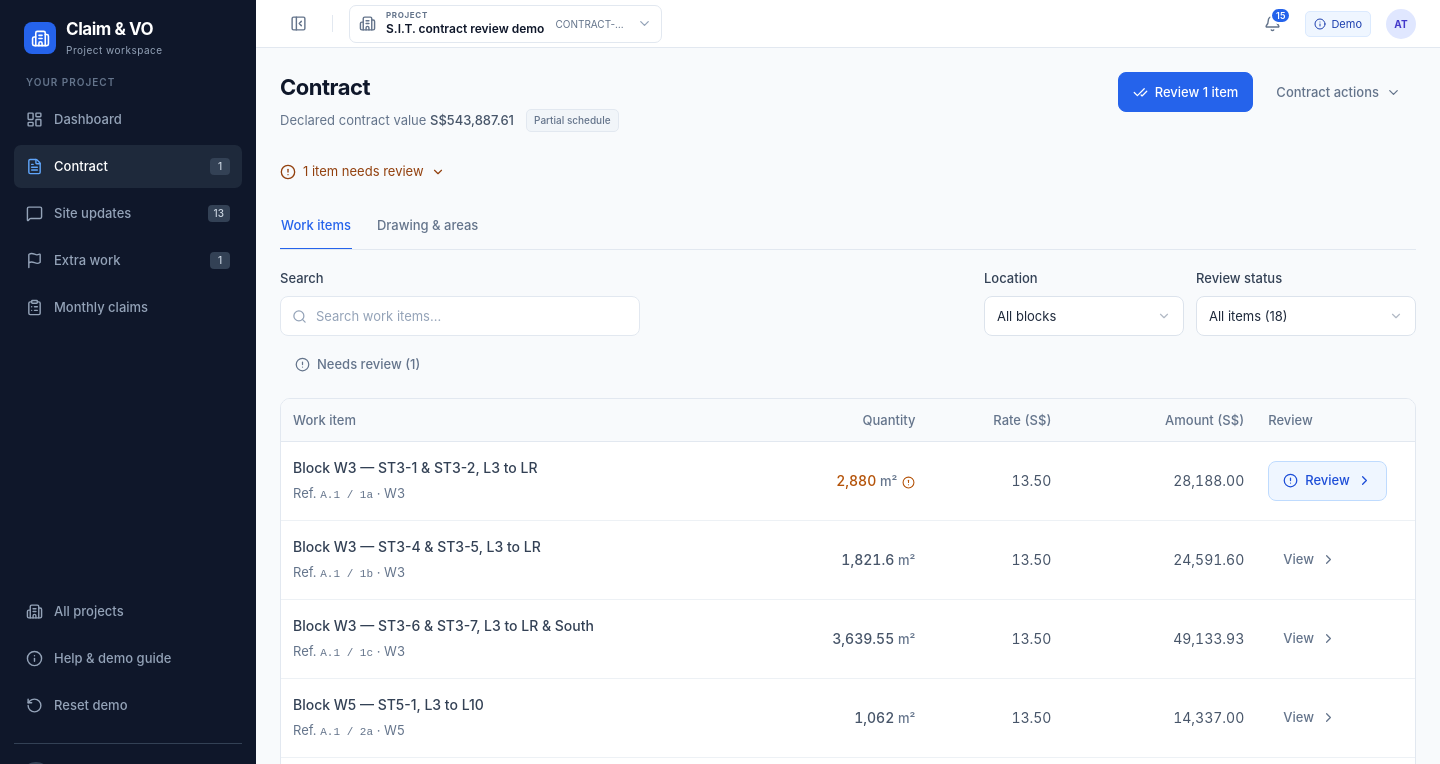
Test: contract work list and source review stay connected › keeps unresolved items discoverable and clears unrelated filters without resolving items or changing claims
Type "ST5" into the field named "Search work items" at {"x": 472, "y": 316}, box [316,297,628,335]
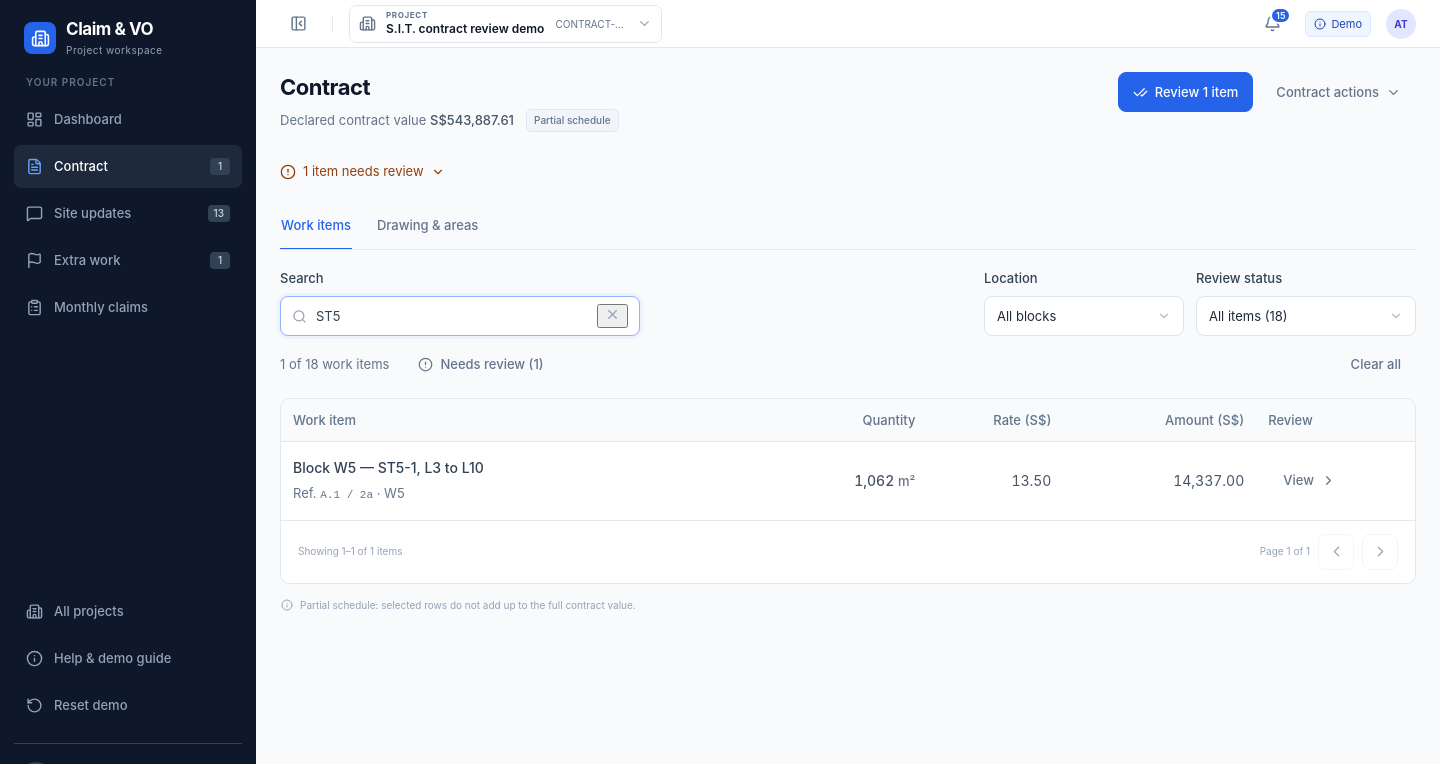
Click the dropdown named "Filter by block" at {"x": 1084, "y": 316}, box [984,296,1184,336]
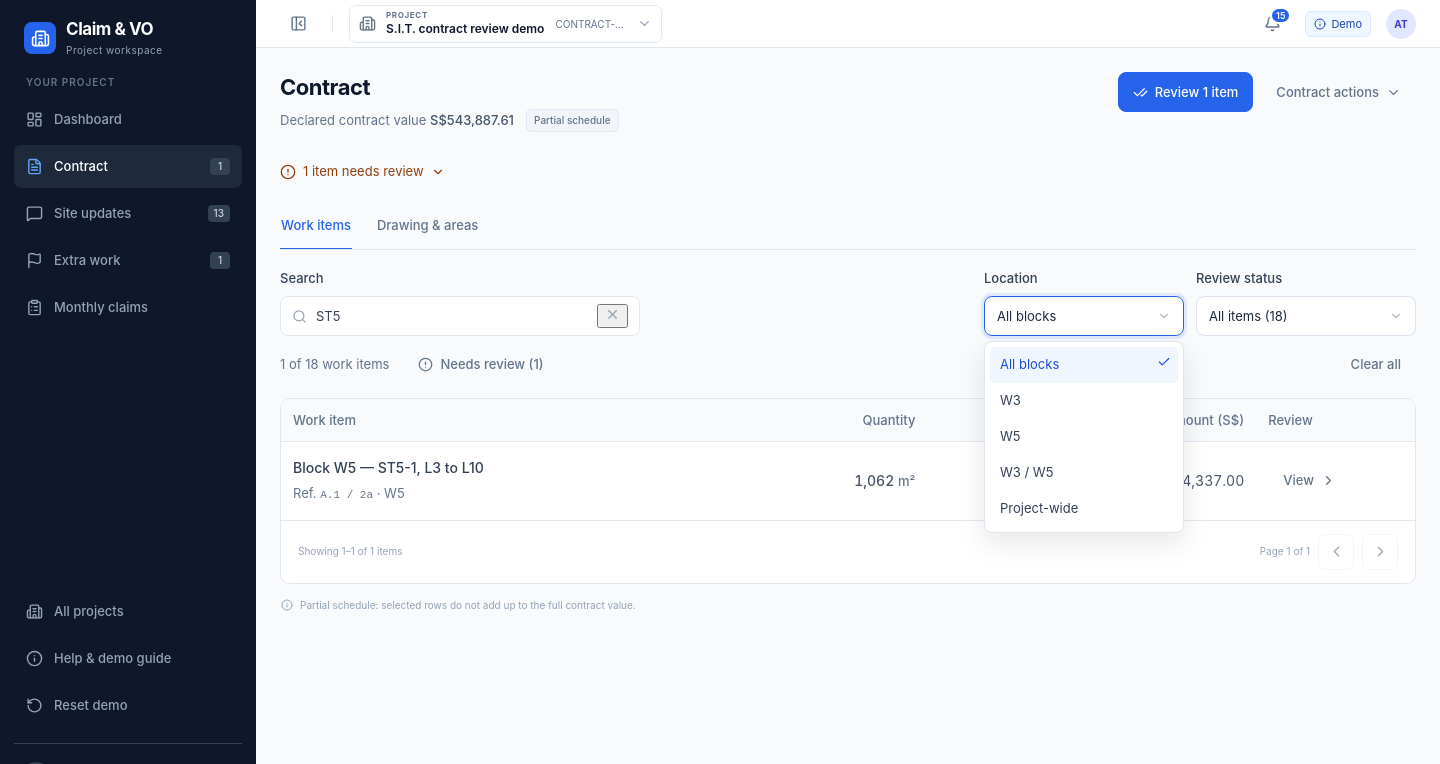
Click the option "W5" at {"x": 1010, "y": 436}, box [1000,428,1020,444]
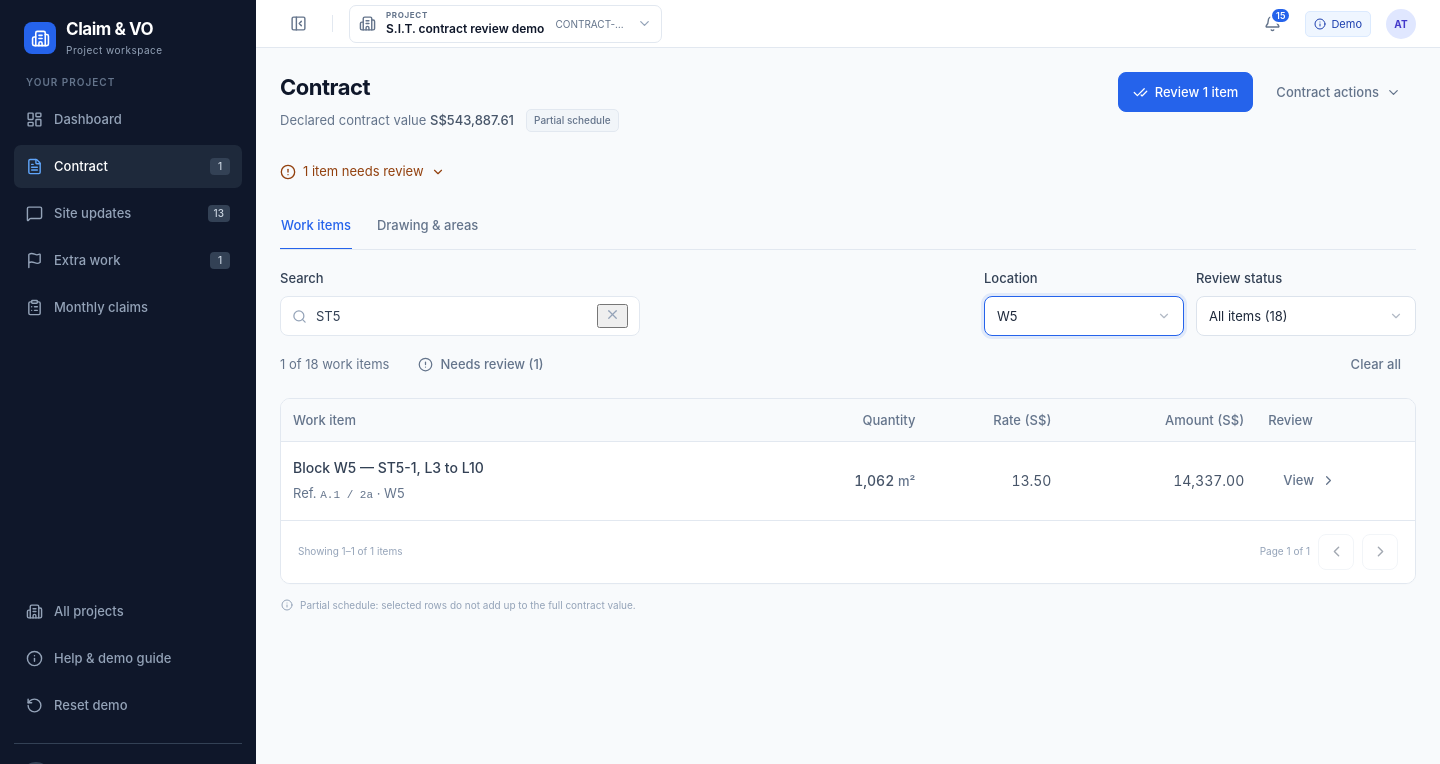
Click the button "Needs review (1)" at {"x": 481, "y": 364}, box [403,344,559,384]
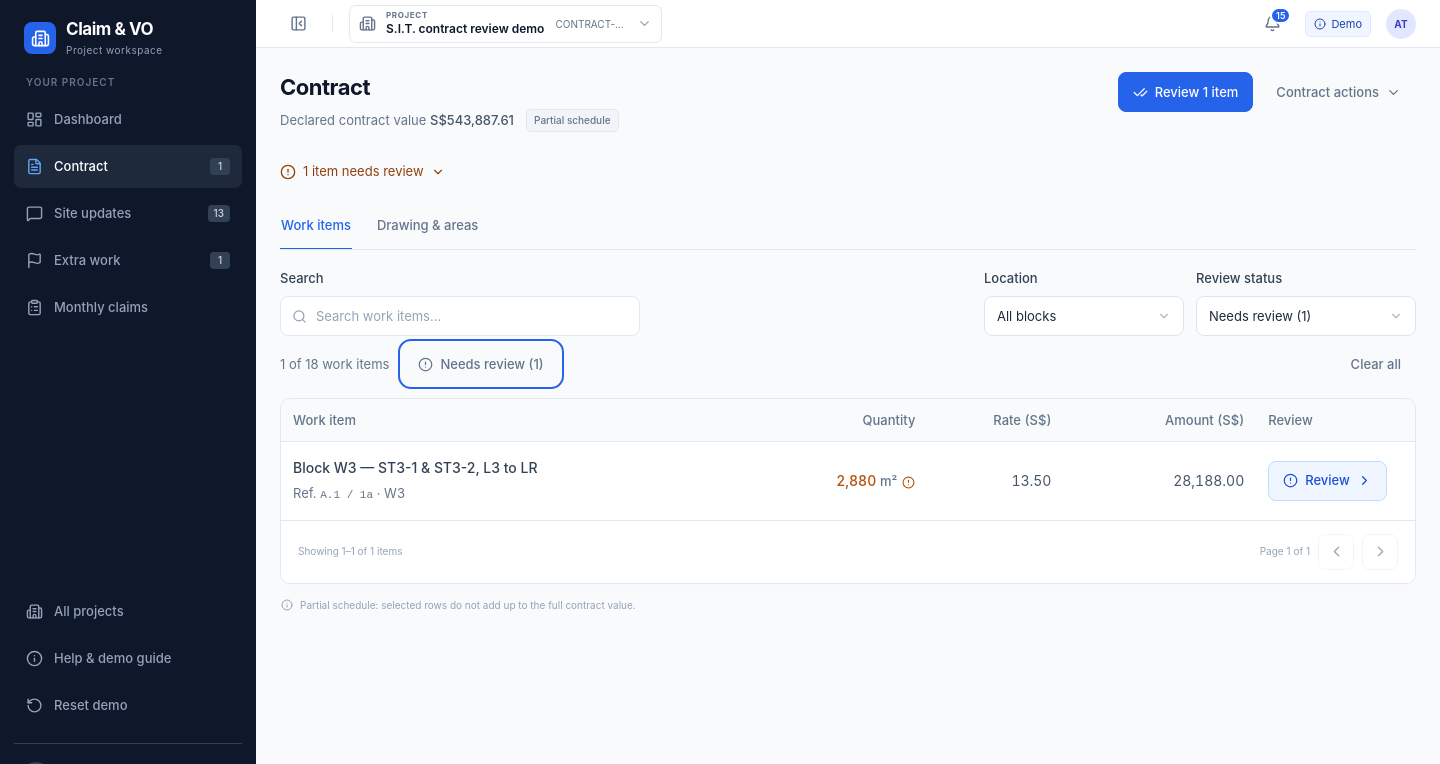
Now the number of buttons named "Review WI-" is 1, box [1268,461,1387,501]
Now the field named "Search work items" is empty, box [316,297,628,335]
